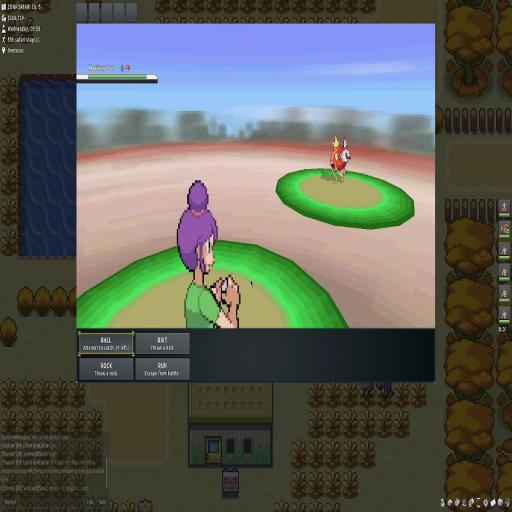FIGHTBAR: (78, 331, 191, 381)
MAGIKARP: (329, 136, 352, 184)
